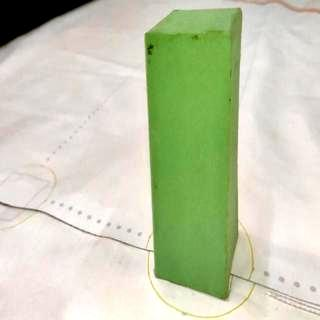greenbox: (145, 7, 242, 303)
